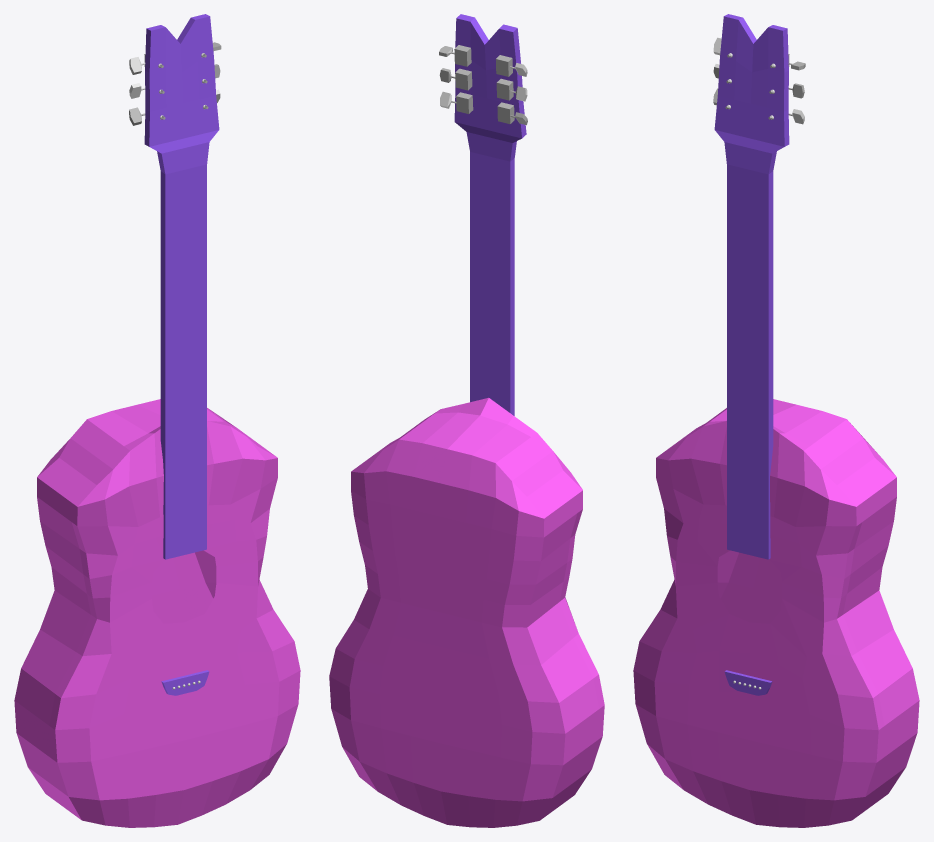
File: Guitar.fbx
3 views of the same model, side by side, from view 1: azimuth 30°, elevation 25°; view 2: azimuth 150°, elevation 25°; view 3: azimuth 330°, elevation 25° (orthographic). The views are drawn at different scales.
Visible parts, largest first — view 1: Guitar, Cube.001, Cube; view 2: Guitar, Cube.001; view 3: Guitar, Cube.001, Cube.
Part boxes in pixels (left/top/right/bottom): Guitar: left=14, top=399, right=300, bottom=827; Cube.001: left=144, top=14, right=219, bottom=559; Cube: left=161, top=670, right=209, bottom=695; Guitar: left=329, top=397, right=604, bottom=827; Cube.001: left=454, top=14, right=526, bottom=415; Guitar: left=633, top=399, right=919, bottom=827; Cube.001: left=714, top=14, right=789, bottom=559; Cube: left=724, top=670, right=772, bottom=695.
Size of the model in its own units: 346 by 1084 by 139.
